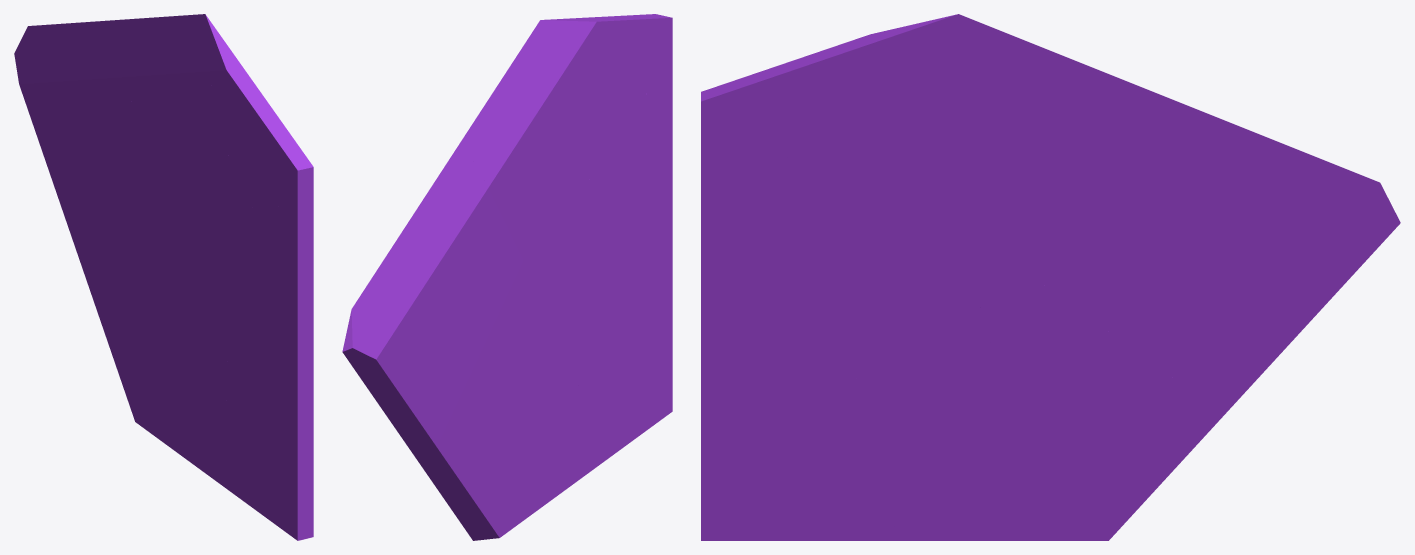
The model's file is Window_18_4_chunks.fbx.
3 views of the same model, side by side, from view 1: azimuth 30°, elevation 25°; view 2: azimuth 150°, elevation 25°; view 3: azimuth 270°, elevation 25° (orthographic). The views are drawn at different scales.
Parts seen in each view (by area): view 1: Window_18_4_0, Window_18_4_1, Window_18_4_4, Window_18_4_5, Window_18_4_8, Window_18_4_6, Window_18_4_2, Window_18_4_9, Window_18_4_7, Window_18_4_3; view 2: Window_18_4_1, Window_18_4_0, Window_18_4_4, Window_18_4_6, Window_18_4_5, Window_18_4_8, Window_18_4_2, Window_18_4_9, Window_18_4_7, Window_18_4_3; view 3: Window_18_4_1, Window_18_4_0, Window_18_4_5, Window_18_4_4, Window_18_4_8, Window_18_4_3, Window_18_4_6, Window_18_4_9, Window_18_4_2, Window_18_4_7.
Part boxes in pixels (x1=…): Window_18_4_0: x1=76, y1=194, x2=232, y2=492; Window_18_4_1: x1=14, y1=19, x2=157, y2=249; Window_18_4_4: x1=226, y1=321, x2=313, y2=540; Window_18_4_5: x1=229, y1=186, x2=313, y2=344; Window_18_4_8: x1=211, y1=35, x2=313, y2=206; Window_18_4_6: x1=124, y1=14, x2=219, y2=142; Window_18_4_2: x1=171, y1=208, x2=238, y2=333; Window_18_4_9: x1=129, y1=94, x2=200, y2=210; Window_18_4_7: x1=181, y1=136, x2=270, y2=209; Window_18_4_3: x1=187, y1=286, x2=227, y2=462; Window_18_4_1: x1=342, y1=140, x2=522, y2=465; Window_18_4_0: x1=421, y1=257, x2=603, y2=540; Window_18_4_4: x1=596, y1=192, x2=672, y2=461; Window_18_4_6: x1=462, y1=19, x2=581, y2=198; Window_18_4_5: x1=600, y1=55, x2=672, y2=269; Window_18_4_8: x1=557, y1=14, x2=672, y2=113; Window_18_4_2: x1=538, y1=164, x2=609, y2=311; Window_18_4_9: x1=493, y1=139, x2=569, y2=260; Window_18_4_7: x1=549, y1=97, x2=644, y2=239; Window_18_4_3: x1=555, y1=301, x2=597, y2=439; Window_18_4_1: x1=1018, y1=84, x2=1400, y2=413; Window_18_4_0: x1=887, y1=273, x2=1224, y2=540; Window_18_4_5: x1=701, y1=124, x2=902, y2=352; Window_18_4_4: x1=701, y1=312, x2=859, y2=540; Window_18_4_8: x1=701, y1=24, x2=923, y2=167; Window_18_4_3: x1=856, y1=300, x2=1011, y2=540; Window_18_4_6: x1=916, y1=14, x2=1133, y2=126; Window_18_4_9: x1=900, y1=121, x2=1102, y2=245; Window_18_4_2: x1=881, y1=202, x2=1025, y2=331; Window_18_4_7: x1=815, y1=148, x2=930, y2=211.
Size of the model in its own units: 27.2 by 721 by 868.
